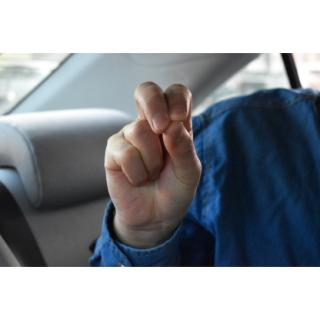QAAF: (98, 76, 211, 232)
